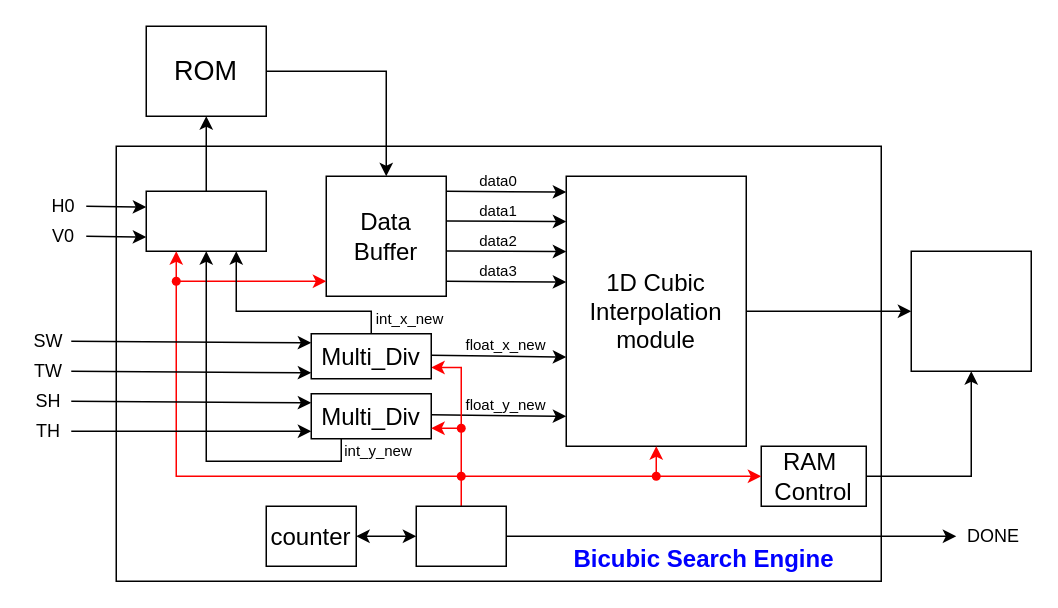
Image size: 1058x608. Some labels were removed from this diagram. Here are the shapes that lost their labels. From the top down, the box of each, then its label:
(145, 190, 266, 251): ROM Control
(910, 250, 1031, 371): RAM
(415, 505, 506, 566): Control Unit
